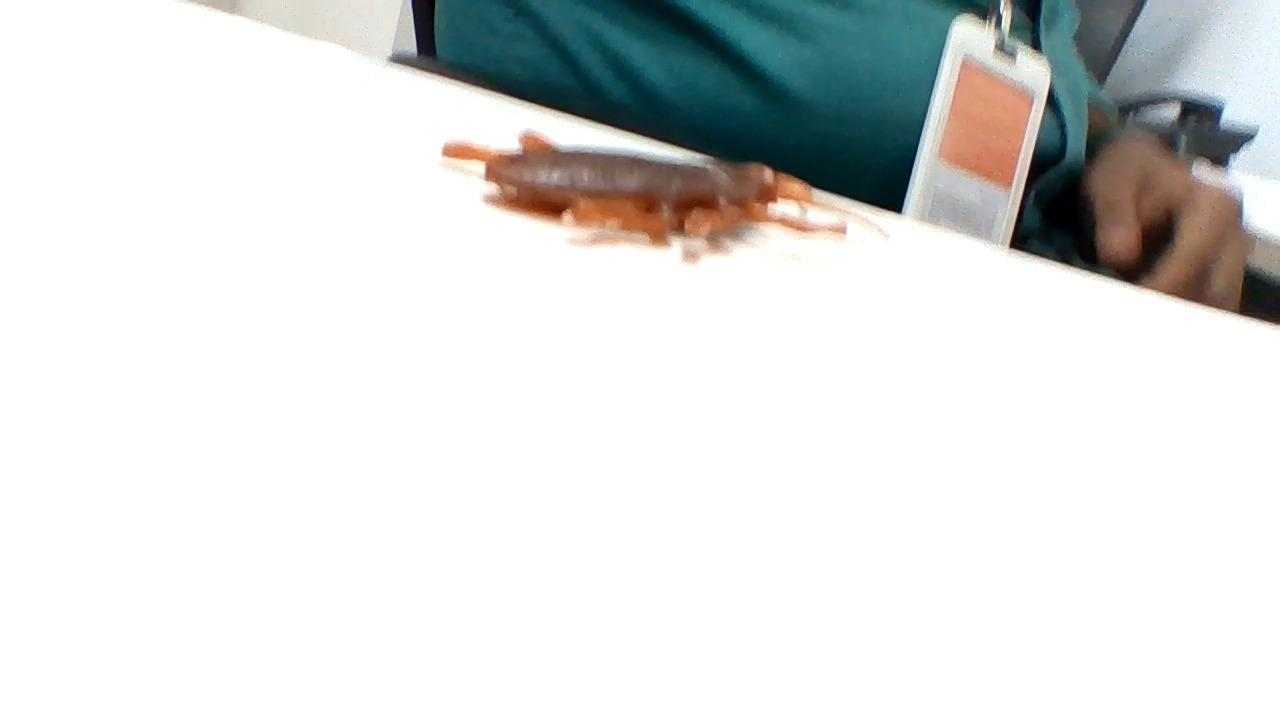cockroach: (442, 110, 864, 258)
